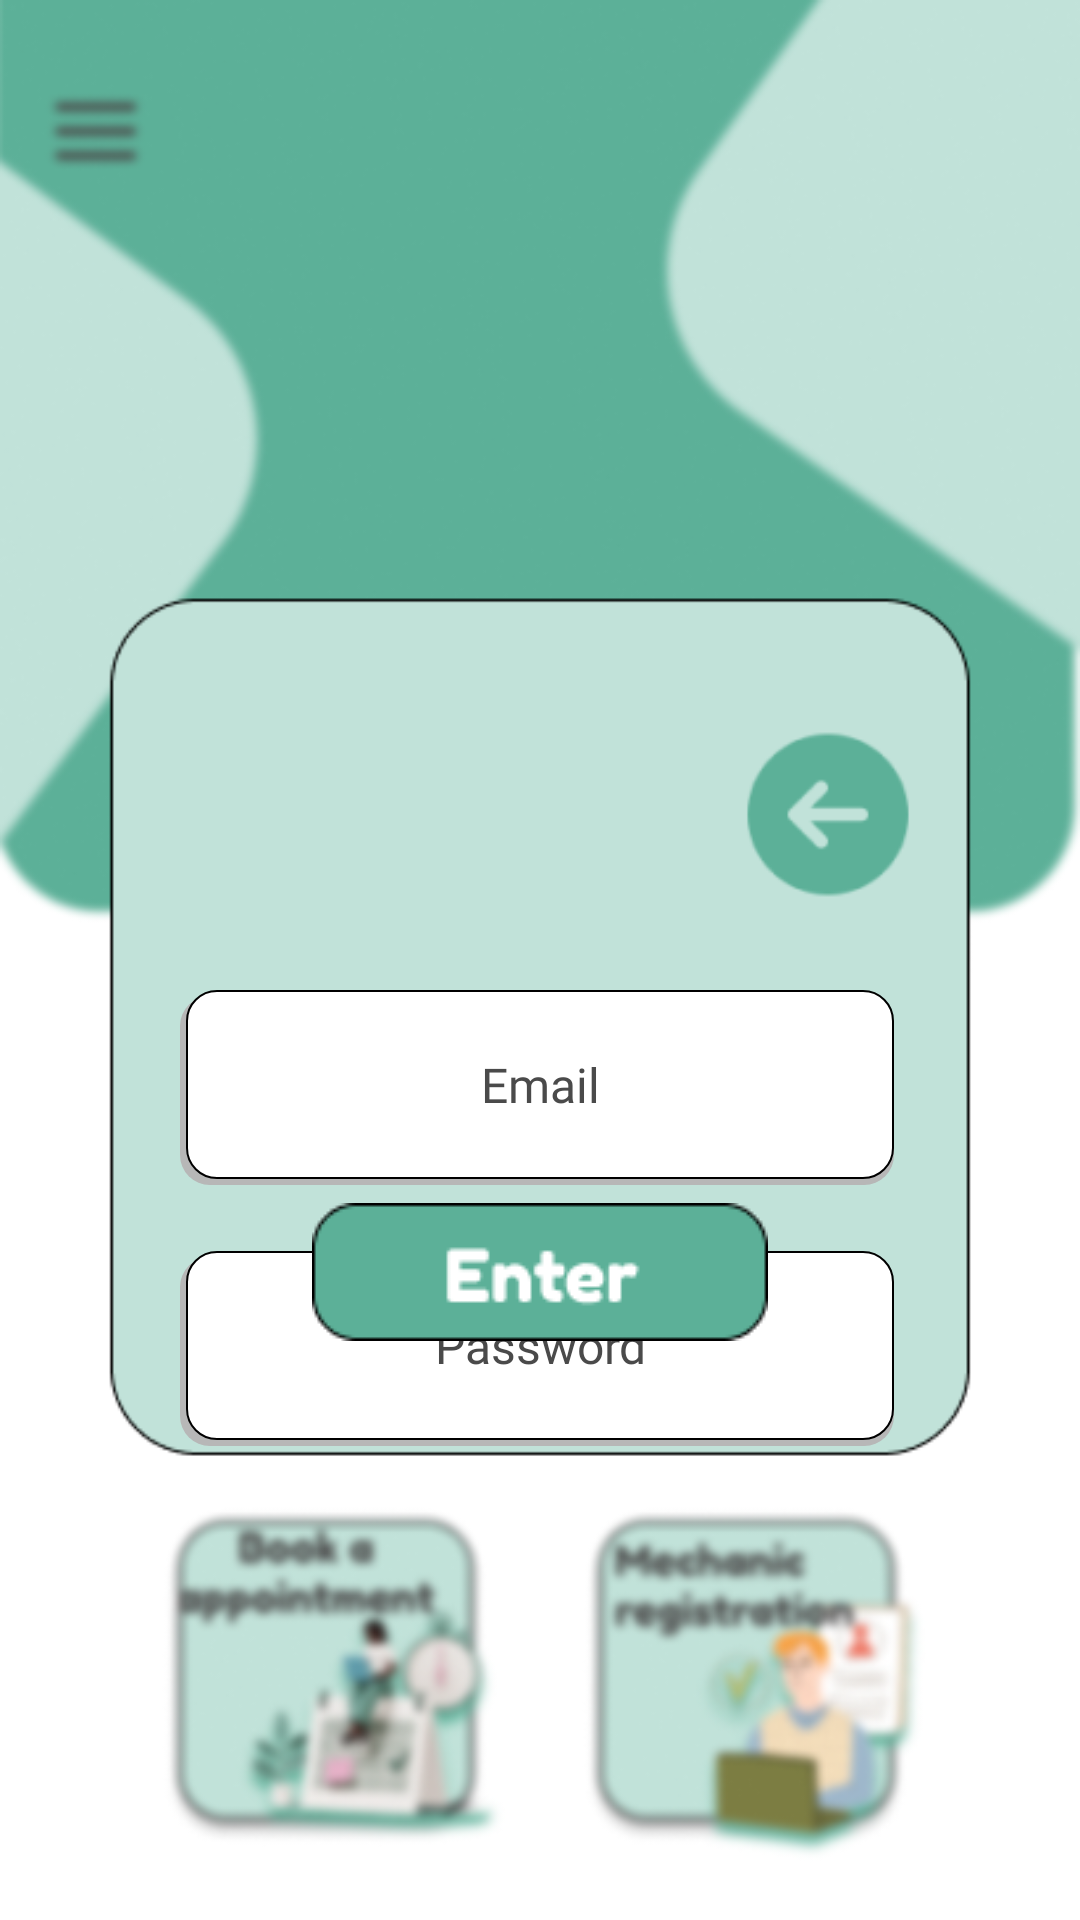

Icons on this 1080×1920 Android screen, each with its box as (x1, y1, x2, y2):
goback: (747, 733, 909, 896)
